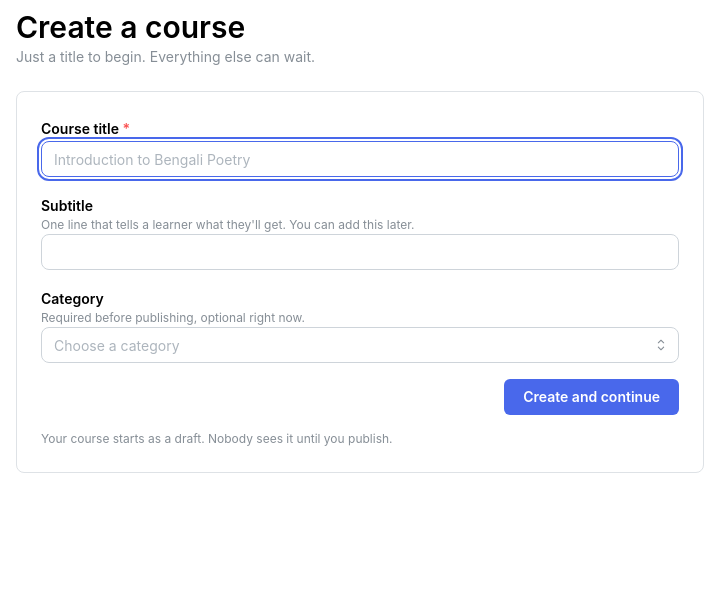
Test case: NewCourseRoute › explains a plan limit instead of failing the title field
The image size is (721, 605).
Type "A fourth course" into the field labelled "Course title *".
click(360, 159); type("A fourth course")  # box 41,141 -> 679,177
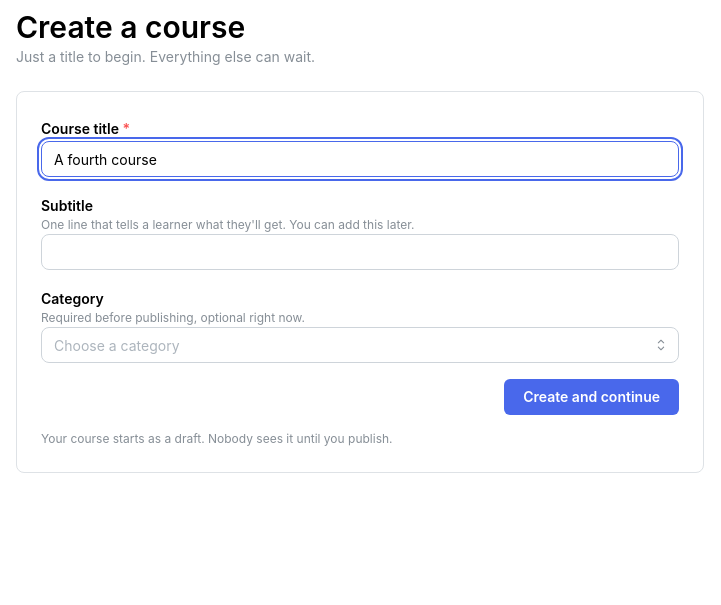
Click the button "Create and continue".
click(592, 398)  # box 504,380 -> 679,416
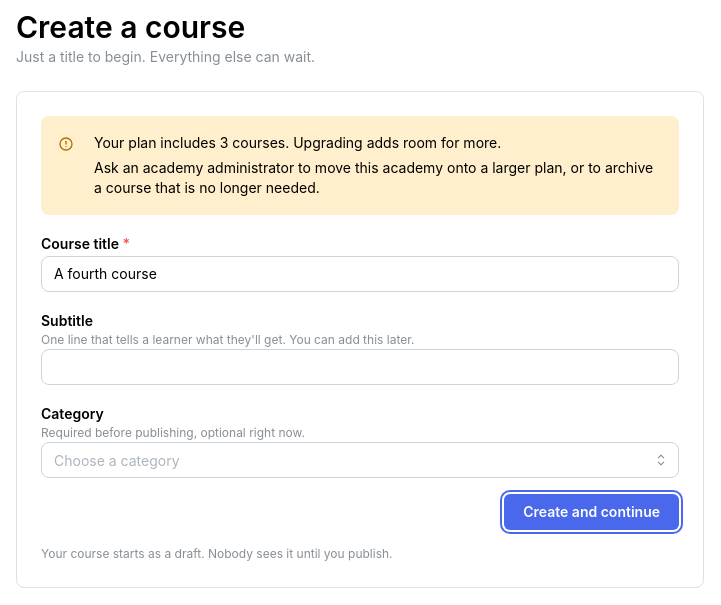
Now the message shows "plan includes 3 courses", box 94,134 -> 501,151
